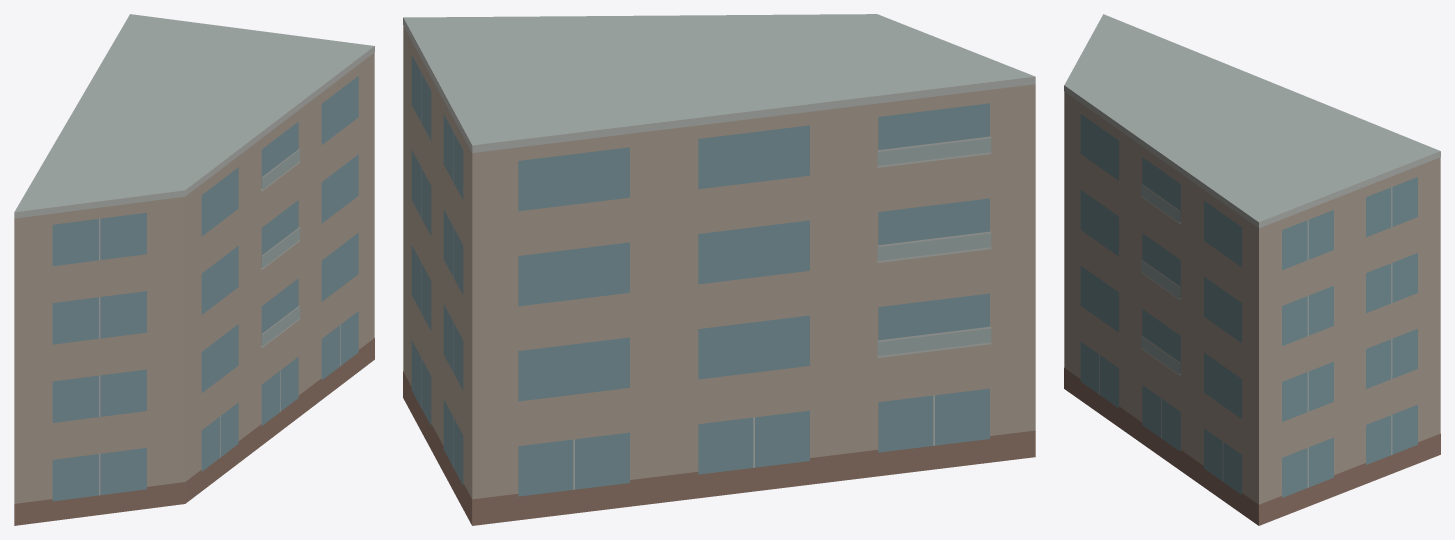
Rendered from residential-215ad57e-6eb2-4648-b1a5-1156e3f37332.glb.
3 renders of one model, left to right at view 1: azimuth 30°, elevation 25°; view 2: azimuth 150°, elevation 25°; view 3: azimuth 270°, elevation 25°, orthographic. The views are drawn at different scales.
Visible parts, largest first — view 1: residential-215ad57e-6eb2-4648-b1a5-1156e3f37332.tmp; view 2: residential-215ad57e-6eb2-4648-b1a5-1156e3f37332.tmp; view 3: residential-215ad57e-6eb2-4648-b1a5-1156e3f37332.tmp.
Boxes of the visible parts, x1,y1,x2,y2 form: residential-215ad57e-6eb2-4648-b1a5-1156e3f37332.tmp: [14, 14, 374, 525]; residential-215ad57e-6eb2-4648-b1a5-1156e3f37332.tmp: [403, 14, 1035, 525]; residential-215ad57e-6eb2-4648-b1a5-1156e3f37332.tmp: [1064, 14, 1440, 525].
Bounding box in the file's own units: 17.97 × 12.2 × 13.72.
